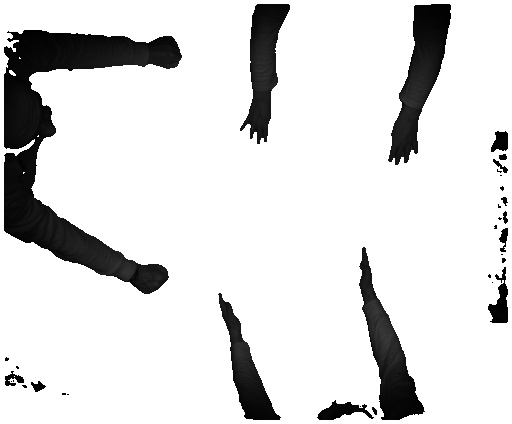fist: (132, 259, 175, 295), (149, 32, 183, 71)
hand: (384, 111, 423, 167), (240, 93, 279, 143)
spine: (216, 288, 247, 339), (352, 240, 375, 296)
